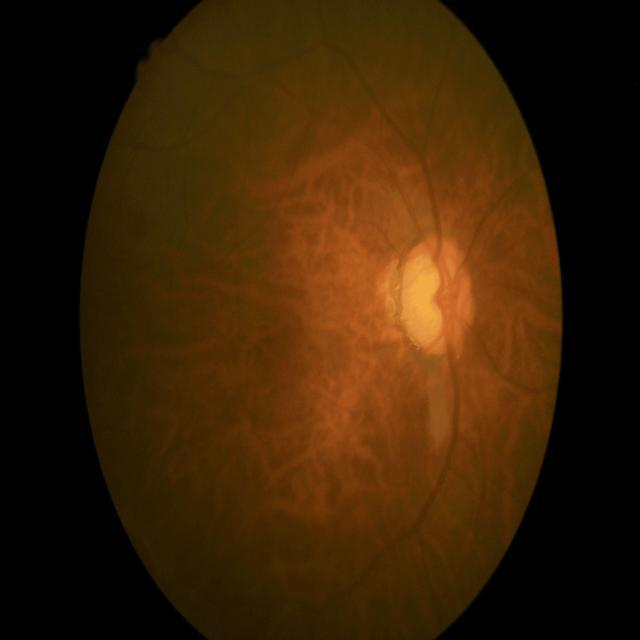cup: (402, 254, 460, 342)
disk: (400, 234, 476, 358)
